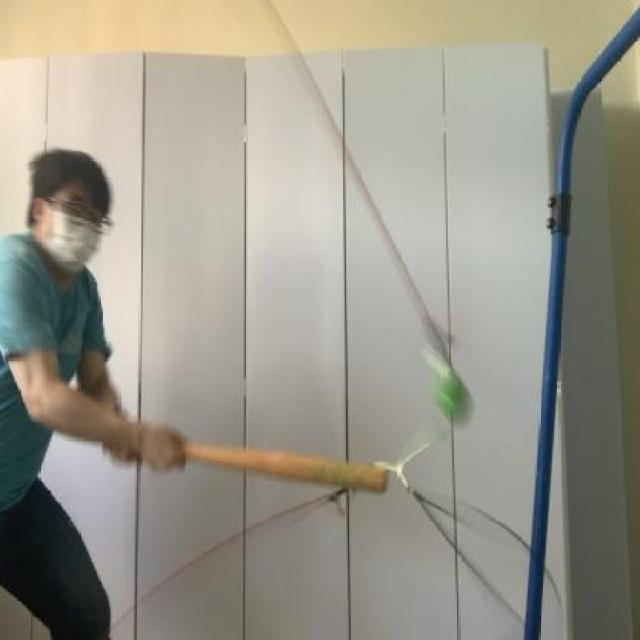baseball: (427, 359, 484, 439)
